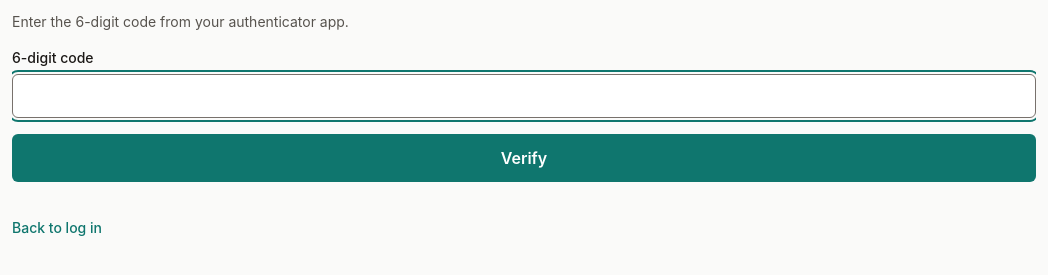
Test: VerifyLogin › checks the app code before sending it
In the field labelled "6-digit code": (524, 96) [12,74,1036,118], type "12345"
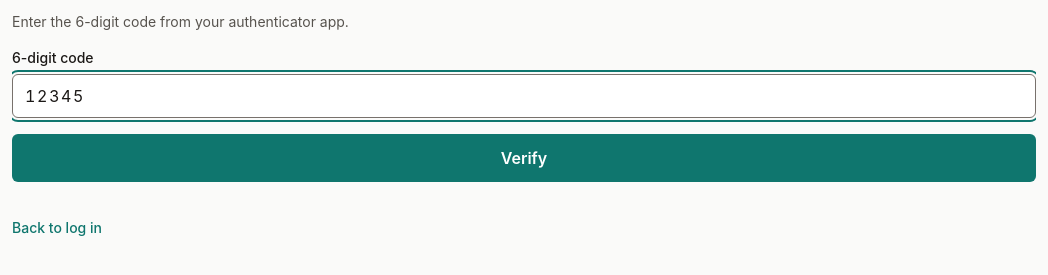
Click the button "Verify": (524, 158) [12,134,1036,182]
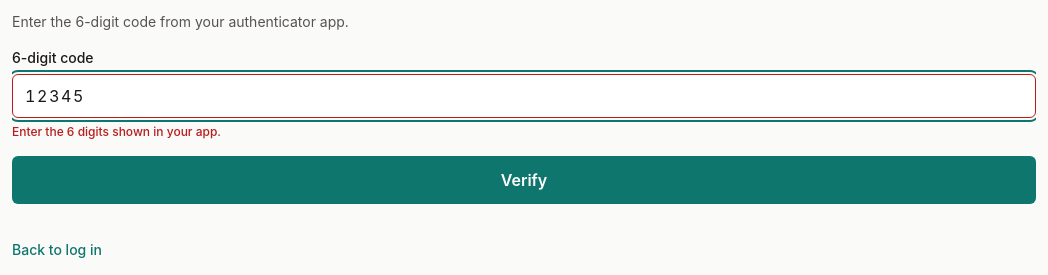
expect the text "Enter the 6 digits shown in your app." is shown: met, box [12,124,221,139]
